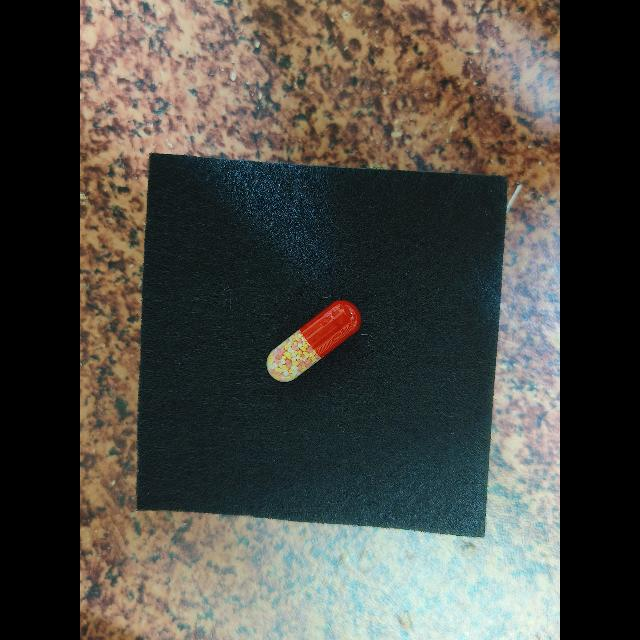Intact Capsule: (266, 300, 361, 382)
